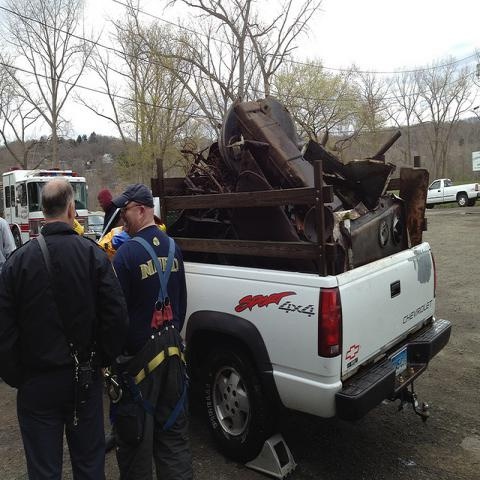truck: (152, 94, 452, 460), (1, 168, 89, 248), (426, 178, 479, 210)
